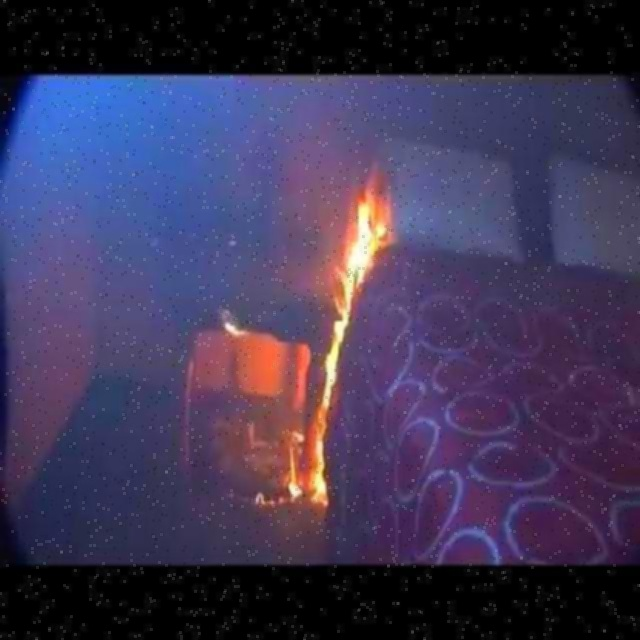fire: (244, 162, 413, 522)
